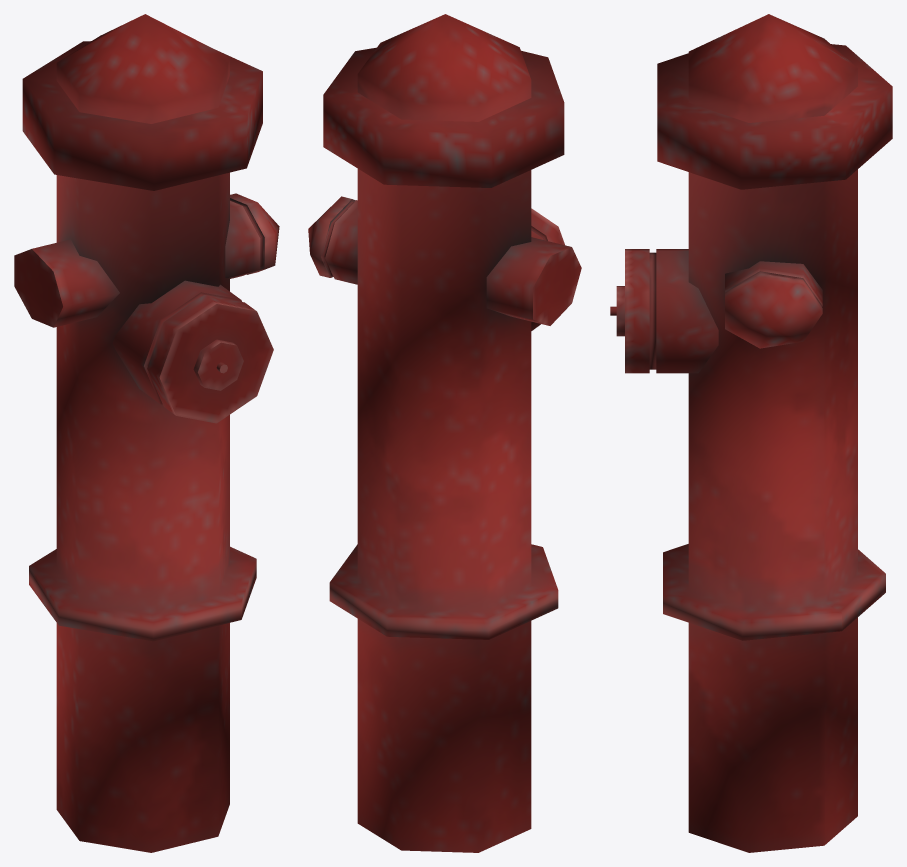
The model's file is Road Fire Extinguisher1.fbx.
The picture shows the model from 3 angles, left to right: view 1: azimuth 30°, elevation 25°; view 2: azimuth 150°, elevation 25°; view 3: azimuth 270°, elevation 25°; orthographic projection.
Parts seen in each view (by area): view 1: Road Fire Extinguisher1_LOD0; view 2: Road Fire Extinguisher1_LOD0; view 3: Road Fire Extinguisher1_LOD0.
Part boxes in pixels (left/top/right/bottom): Road Fire Extinguisher1_LOD0: left=14, top=14, right=279, bottom=852; Road Fire Extinguisher1_LOD0: left=308, top=14, right=581, bottom=852; Road Fire Extinguisher1_LOD0: left=610, top=14, right=892, bottom=852.
Size of what is drawn, in the model's own units: 0.4313 by 1.35 by 0.4302.
1 material, 1 textured.
